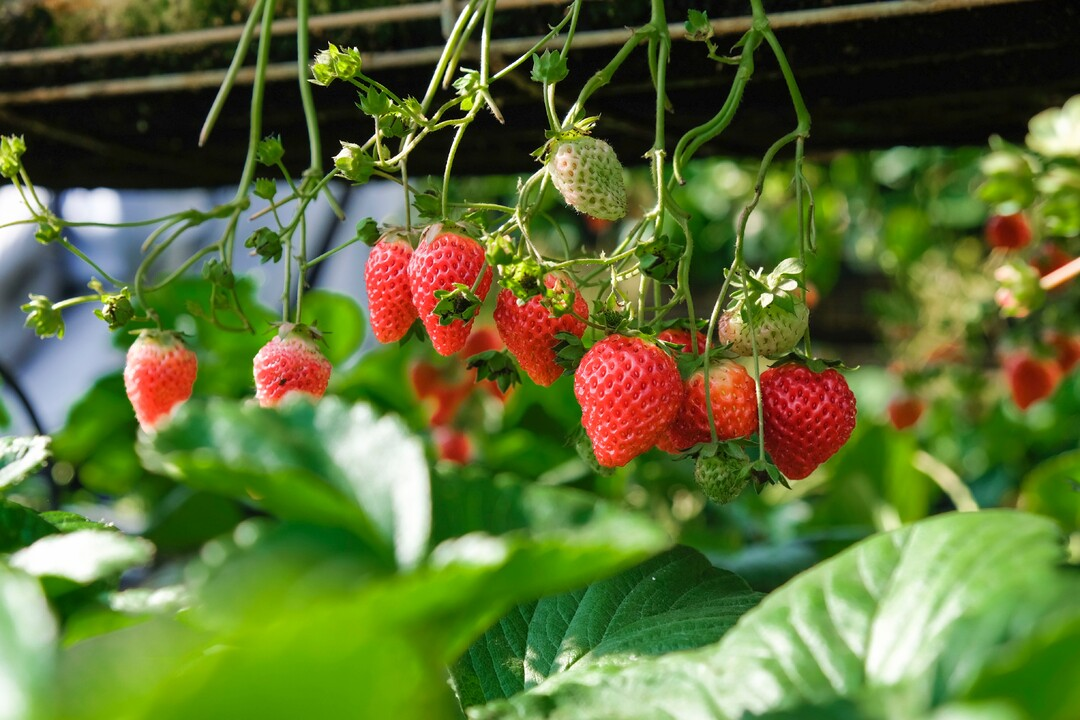green_strawberry: (549, 134, 637, 223), (723, 290, 808, 355), (693, 437, 753, 503)
red_strawberry: (577, 336, 676, 468), (494, 261, 586, 396), (759, 362, 856, 478), (411, 234, 484, 363), (680, 365, 763, 450), (125, 336, 194, 431), (256, 325, 333, 408), (367, 237, 420, 346)
